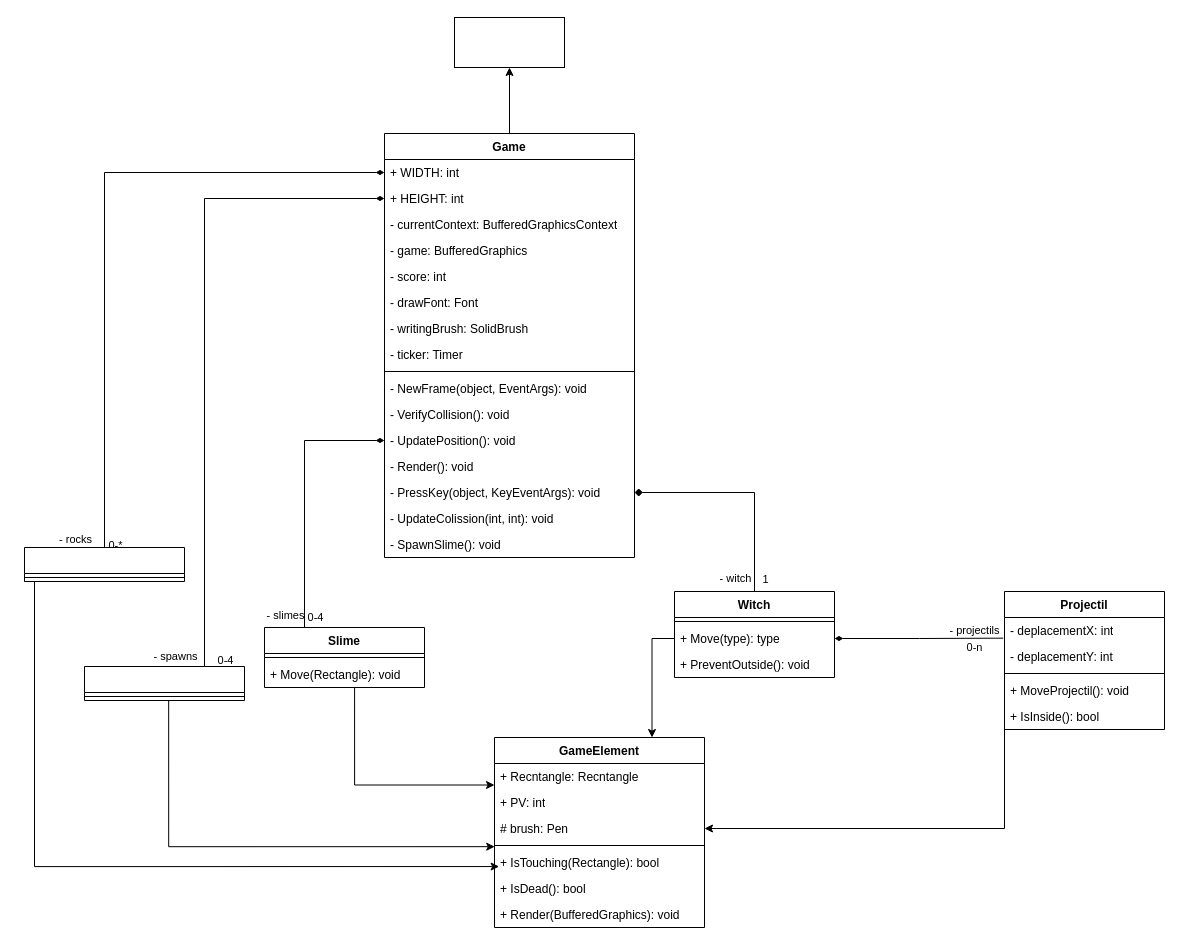
This 1182x948 diagram has some shape labels left out. Here are the shapes that lost their labels. From the top down, the box of each, then its label:
(454, 16, 564, 68): Form
(24, 546, 184, 582): Rock
(84, 666, 244, 700): Spawn
